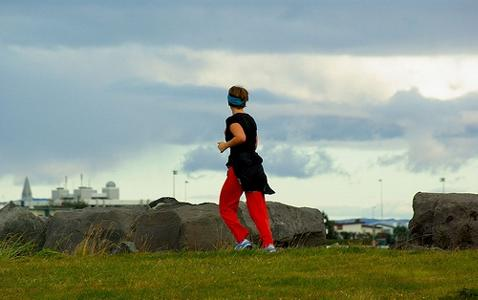person: (219, 86, 280, 255)
